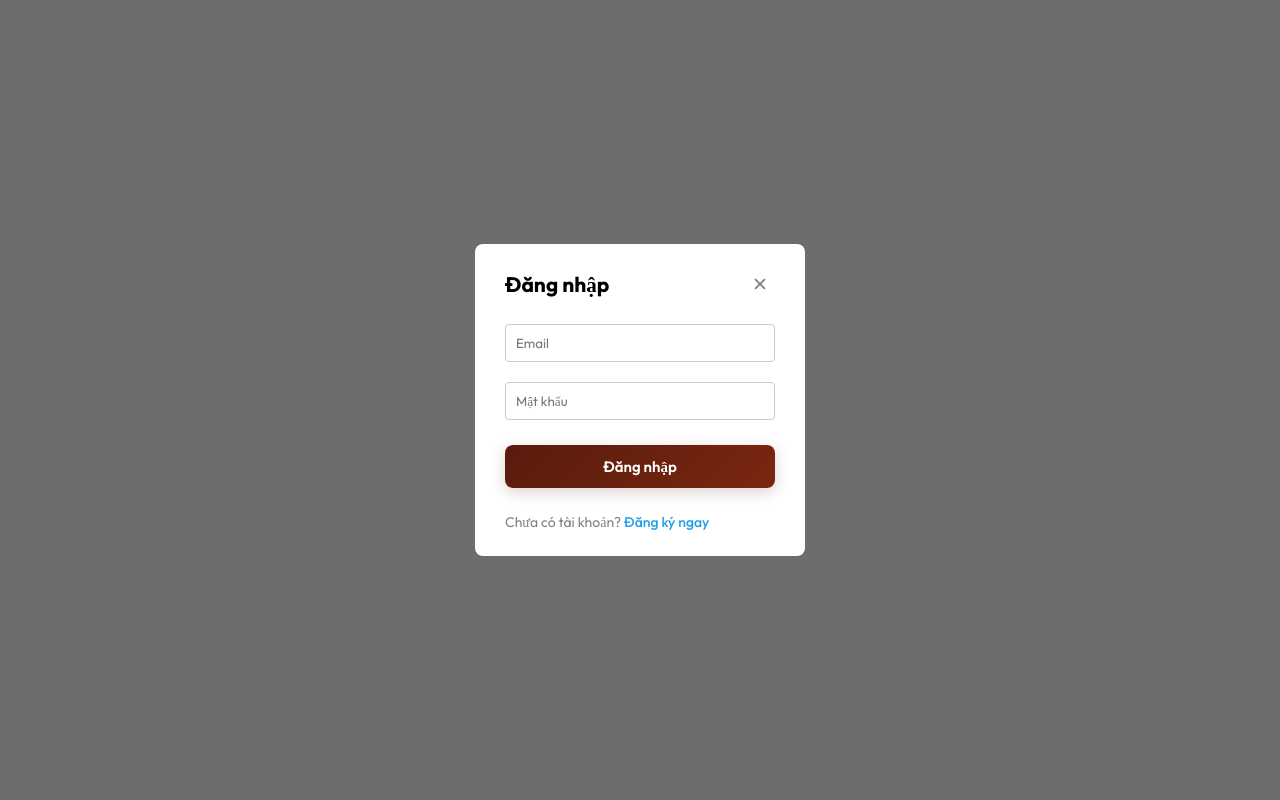
LoginPopup Component › TC_FE_LOGIN_002: Should switch to register form
The width and height of the screenshot is (1280, 800).
Click the text "Đăng ký ngay": (667, 522) [624,513,709,531]
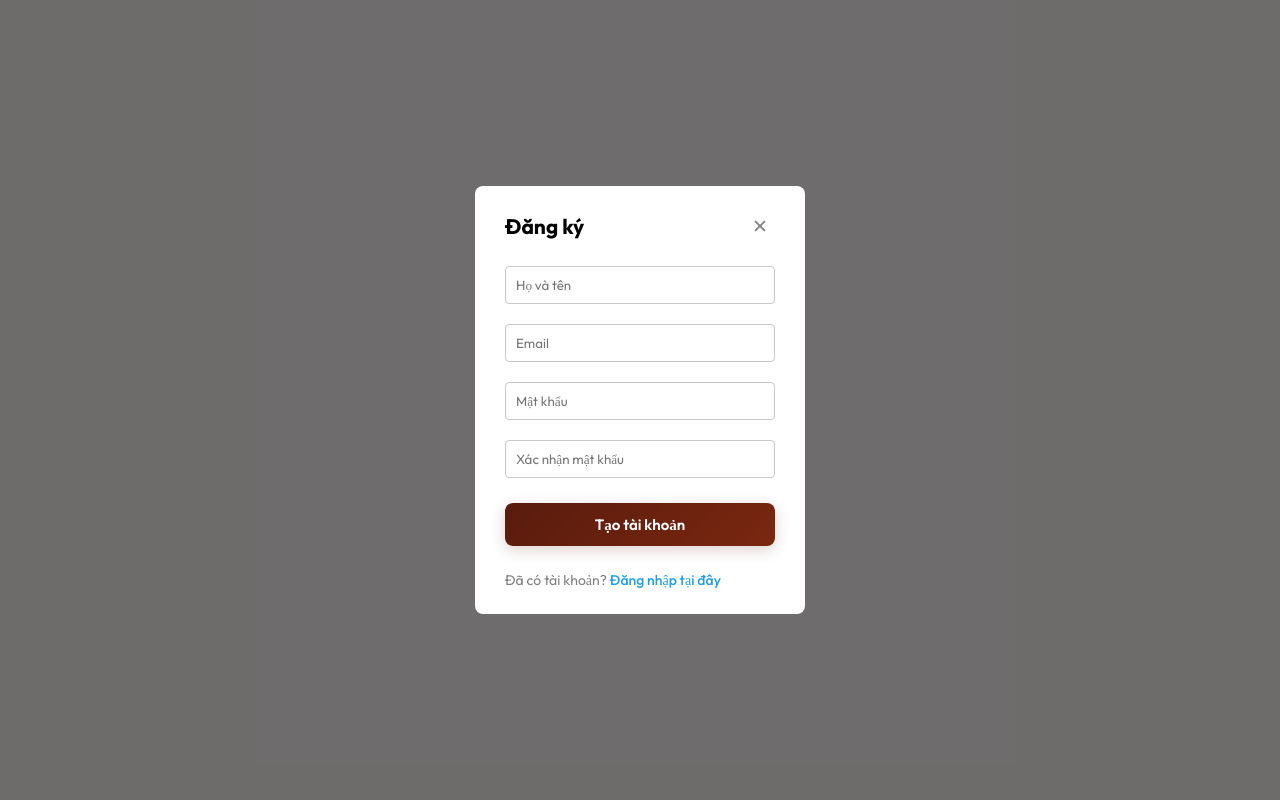
Check: the heading "Đăng ký" is shown, box [505,213,584,239]
Check: the field with placeholder "Họ và tên" is shown, box [505,266,775,304]
